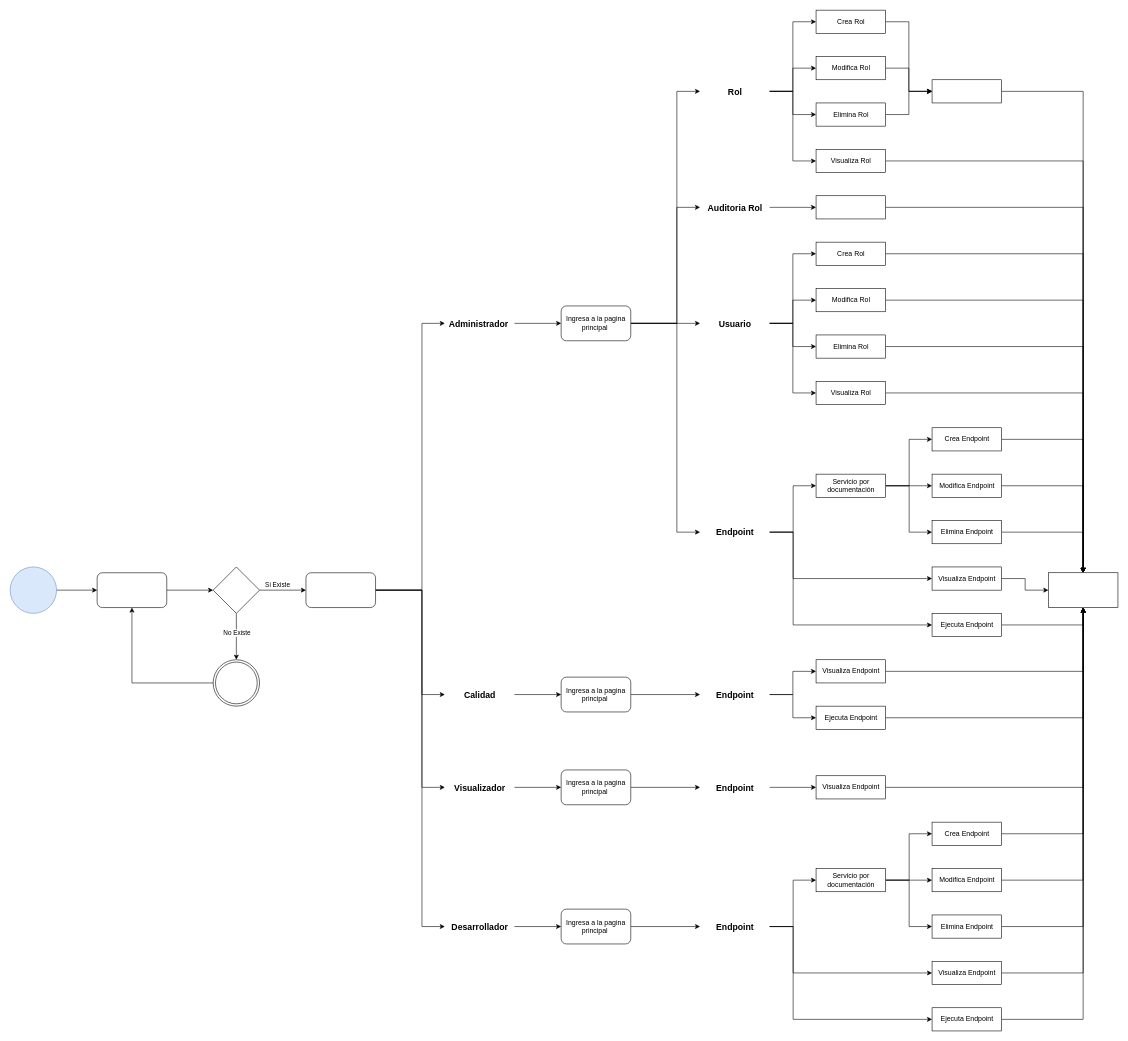
Image size: 1128x1041. Some labels were removed from this diagram. Each missing label, with the centre of its shape:
"Fin del Proceso/ Cerrar Sesión" belongs at point 1083,590.
"Guardar en Auditoria Rol" belongs at point 966,91.
"Validar que el usuario sea interno" belongs at point 132,590.
"Verifica el Rol de Usuario" belongs at point 340,590.
"Visualiza Auditoria Rol" belongs at point 850,207.
